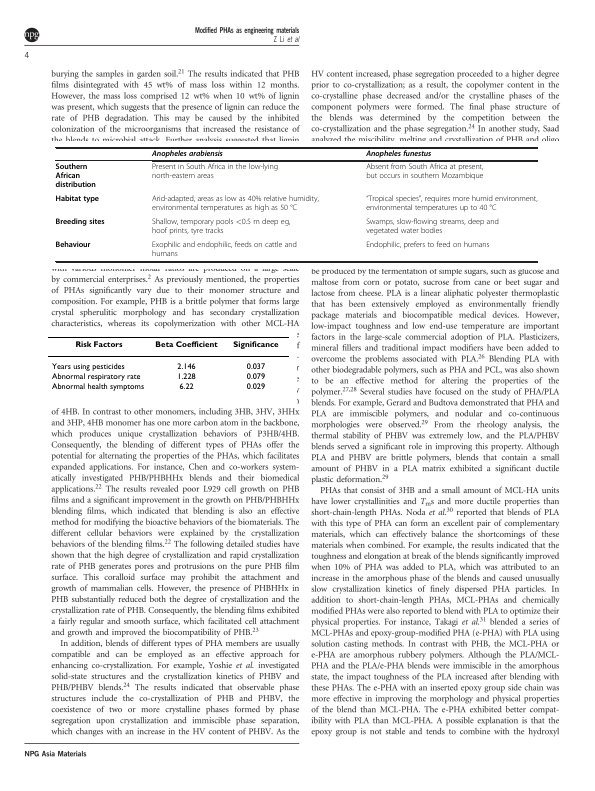borderless: (54, 146, 537, 261), (46, 335, 290, 400)
cell: (365, 195, 538, 214), (151, 195, 320, 214), (151, 241, 298, 260), (151, 218, 291, 237), (365, 218, 500, 237), (151, 163, 279, 182), (365, 163, 484, 182), (365, 241, 490, 251), (54, 163, 97, 191), (51, 382, 145, 392), (51, 372, 141, 382), (51, 362, 125, 371), (151, 150, 224, 159), (365, 150, 432, 159), (154, 340, 218, 349), (54, 218, 106, 228), (54, 195, 100, 205), (74, 340, 123, 349), (232, 340, 279, 349), (54, 241, 91, 251), (245, 372, 266, 382), (245, 382, 266, 392), (176, 372, 196, 382), (245, 362, 266, 371), (176, 362, 196, 371), (178, 382, 194, 392)
